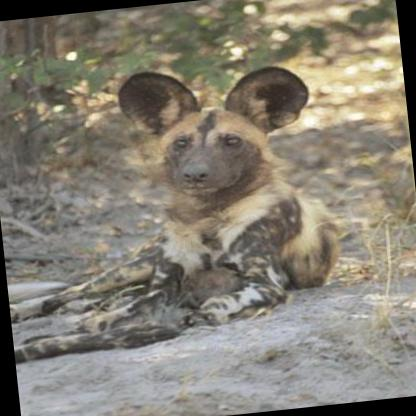African_hunting_dog: (0, 50, 344, 359)
